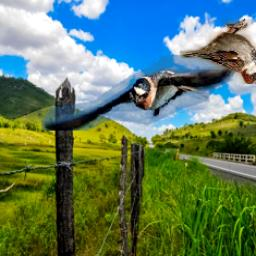Sparrow: (180, 20, 256, 85)
Swallow: (42, 54, 237, 131)
